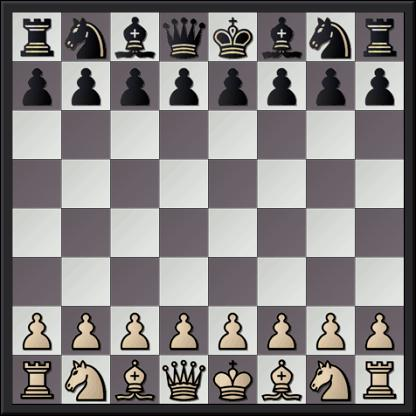black-bishop: (112, 12, 159, 62), (261, 12, 303, 61)
black-king: (210, 14, 258, 60)
black-knight: (63, 11, 110, 60), (307, 14, 354, 62)
black-pawn: (311, 62, 351, 109), (264, 63, 304, 108), (361, 62, 400, 108), (214, 63, 252, 109), (68, 62, 103, 108), (118, 66, 156, 108), (20, 64, 56, 108), (167, 64, 203, 106)
black-queen: (160, 13, 208, 62)
black-rook: (17, 12, 58, 60), (362, 14, 402, 60)
white-bishop: (261, 356, 304, 402), (115, 356, 156, 402)
white-king: (210, 357, 255, 401)
white-knight: (65, 356, 110, 402), (308, 358, 354, 402)
white-pawn: (358, 309, 402, 353), (312, 308, 350, 351), (214, 309, 250, 354), (265, 310, 302, 352), (70, 308, 106, 351), (167, 309, 201, 353), (120, 309, 154, 353), (22, 308, 52, 352)
white-queen: (161, 358, 207, 402)
white-rook: (18, 356, 60, 400), (361, 358, 401, 402)
